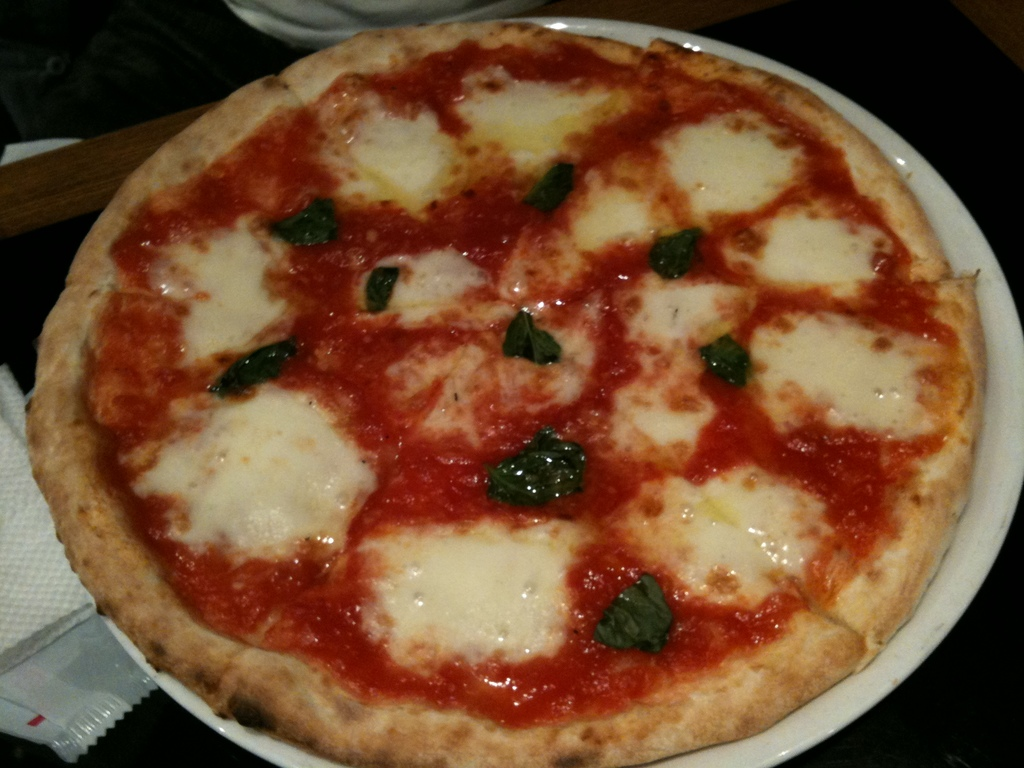Pizza: (23, 21, 985, 767)
